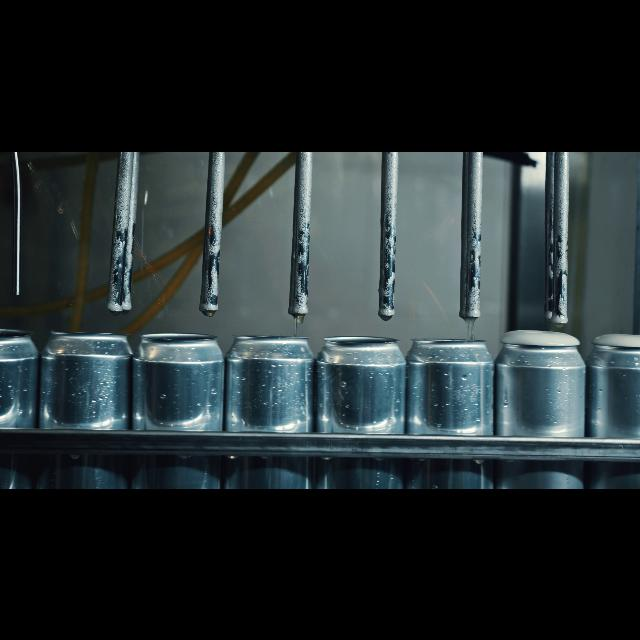empty: (44, 324, 132, 488), (230, 322, 312, 488), (406, 328, 490, 488), (140, 322, 220, 488), (322, 322, 402, 488), (4, 322, 36, 488)
full: (496, 314, 586, 488), (598, 314, 640, 488)
